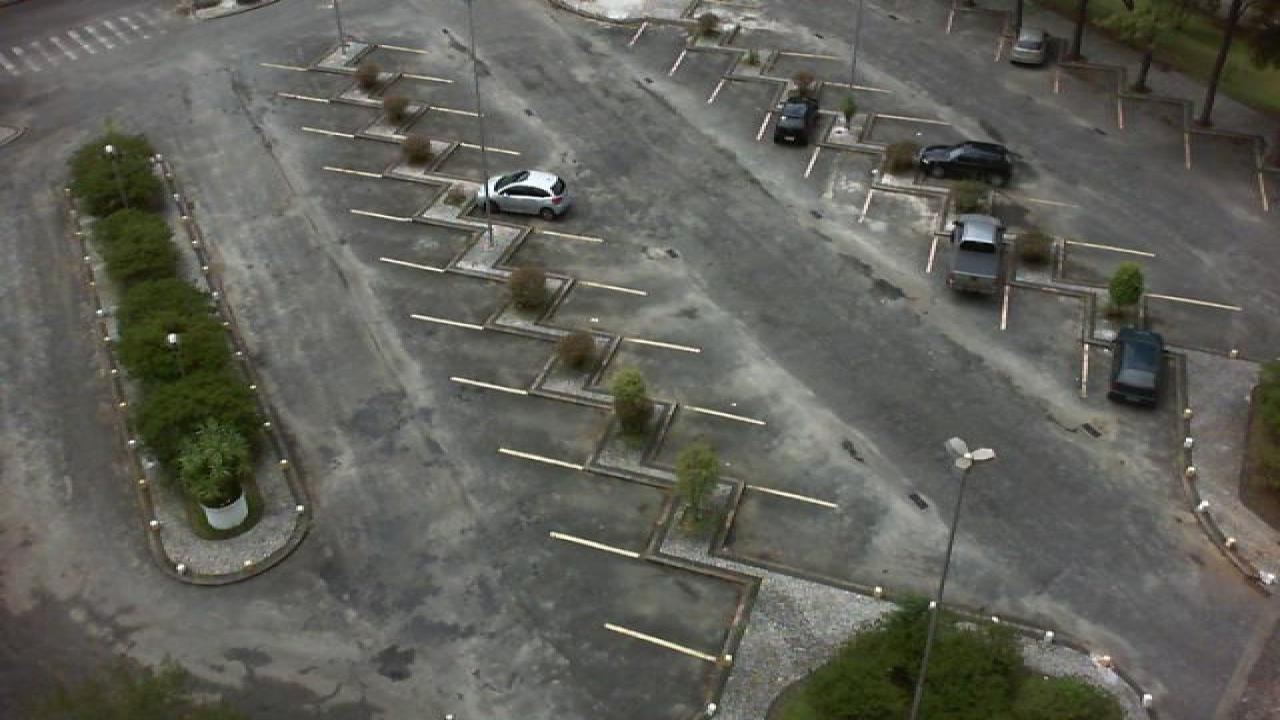Car: (950, 212, 1010, 295), (1106, 325, 1166, 405), (482, 168, 574, 219), (914, 140, 1020, 184), (770, 98, 820, 145), (1008, 28, 1048, 66)
